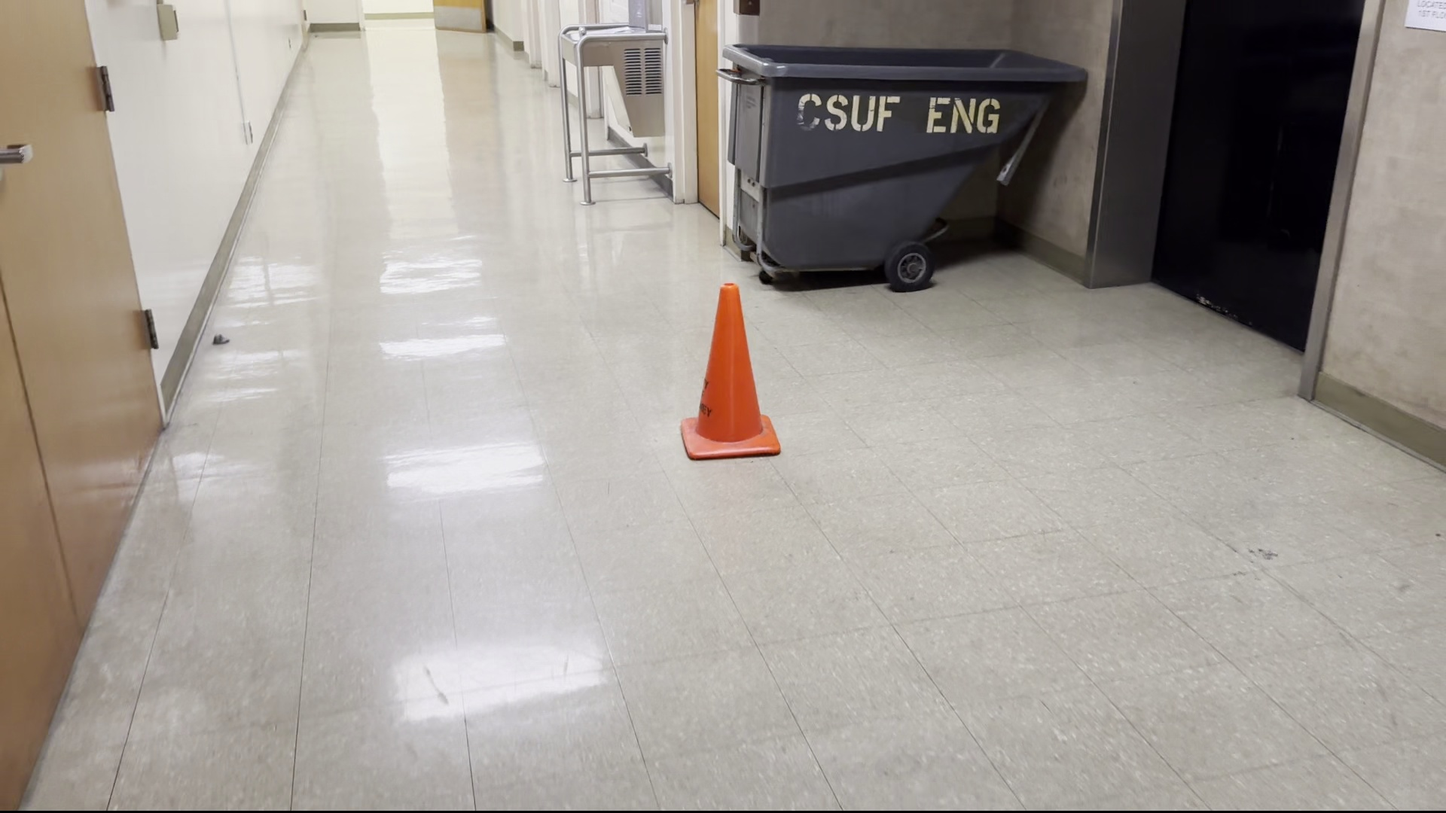traffic_cone: (679, 282, 782, 461)
